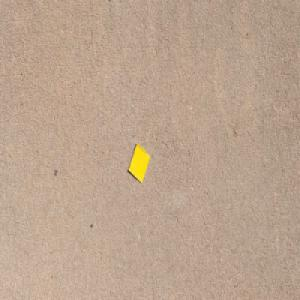PlasticPart: (128, 142, 150, 183)
